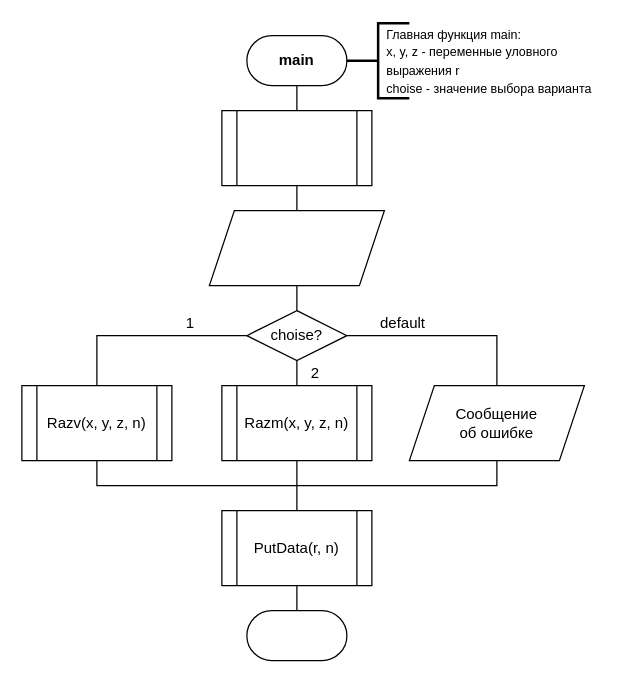
Some shapes in this 644 by 683 pixel diagram are drawn without their labels. Each missing label, with the centre of its shape:
GetData(x, y, z) ф-я ввода исходных данных: the point at 296,147
Ввод choise варианта выбора решения: the point at 296,247
Конец: the point at 296,635
